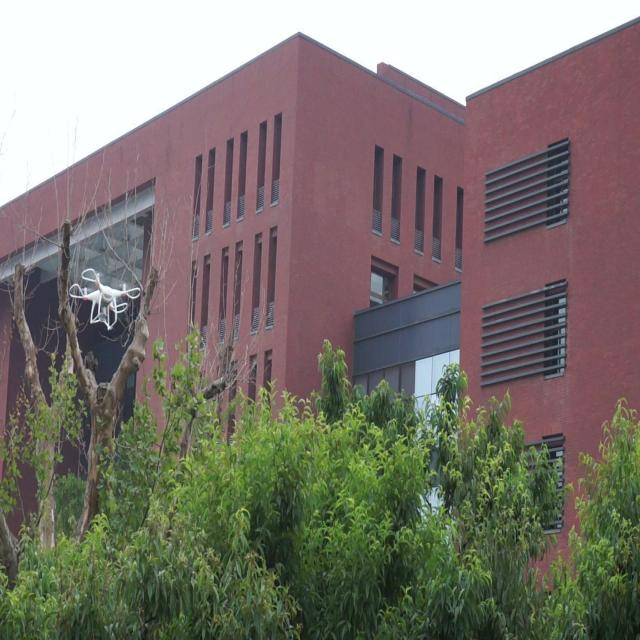UAV: (69, 268, 141, 331)
